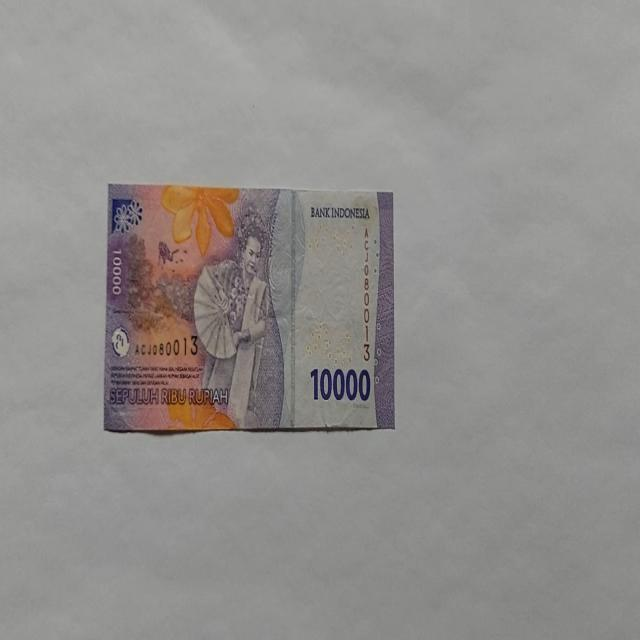sepuluh ribu rupiah: (103, 181, 394, 435)
